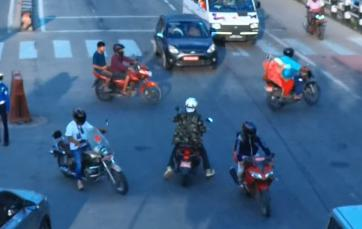bike: (47, 123, 134, 200), (93, 58, 166, 106), (267, 64, 325, 110)
